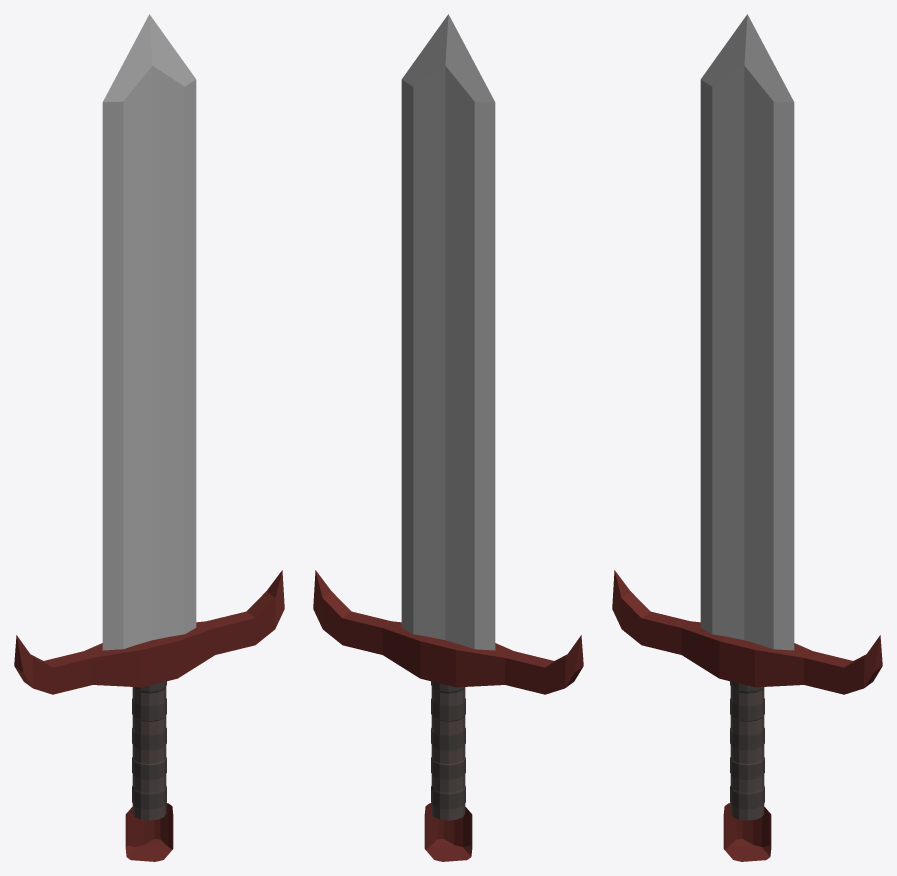
Rendered from edgy sword.glb.
The picture shows the model from 3 angles, left to right: view 1: azimuth 30°, elevation 25°; view 2: azimuth 150°, elevation 25°; view 3: azimuth 330°, elevation 25°; orthographic projection.
Visible parts, largest first — view 1: Blade, Guard, Handle, Pommel; view 2: Blade, Guard, Handle, Pommel; view 3: Blade, Guard, Handle, Pommel.
Boxes of the visible parts, x1,y1,x2,y2 form: Blade: (102,14,196,650); Guard: (14,570,284,694); Handle: (132,681,166,820); Pommel: (125,803,173,861); Blade: (401,14,495,650); Guard: (313,570,583,694); Handle: (431,681,465,820); Pommel: (424,803,472,861); Blade: (700,14,794,650); Guard: (612,570,882,694); Handle: (730,681,764,820); Pommel: (723,803,771,861).
Bounding box in the file's own units: 2.54 × 7.65 × 0.3412.
